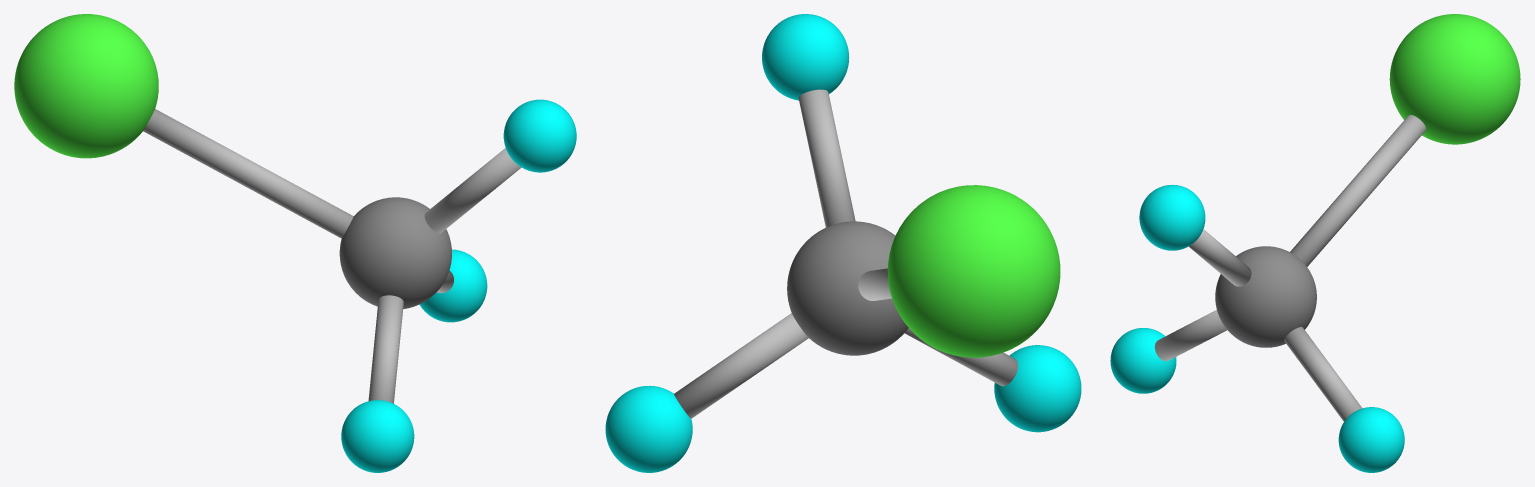
Rendered from chloromethane.glb.
3 renders of one model, left to right at view 1: azimuth 30°, elevation 25°; view 2: azimuth 150°, elevation 25°; view 3: azimuth 270°, elevation 25°, orthographic. The views are drawn at different scales.
Parts seen in each view (by area): view 1: CMAtom_0; view 2: CMAtom_0; view 3: CMAtom_0.
Part boxes in pixels (x1,y1,x2,y2): CMAtom_0: [14, 14, 576, 472]; CMAtom_0: [605, 14, 1081, 472]; CMAtom_0: [1110, 14, 1520, 472].
Size of the model in its own units: 0.2609 by 0.2127 by 0.2484.
